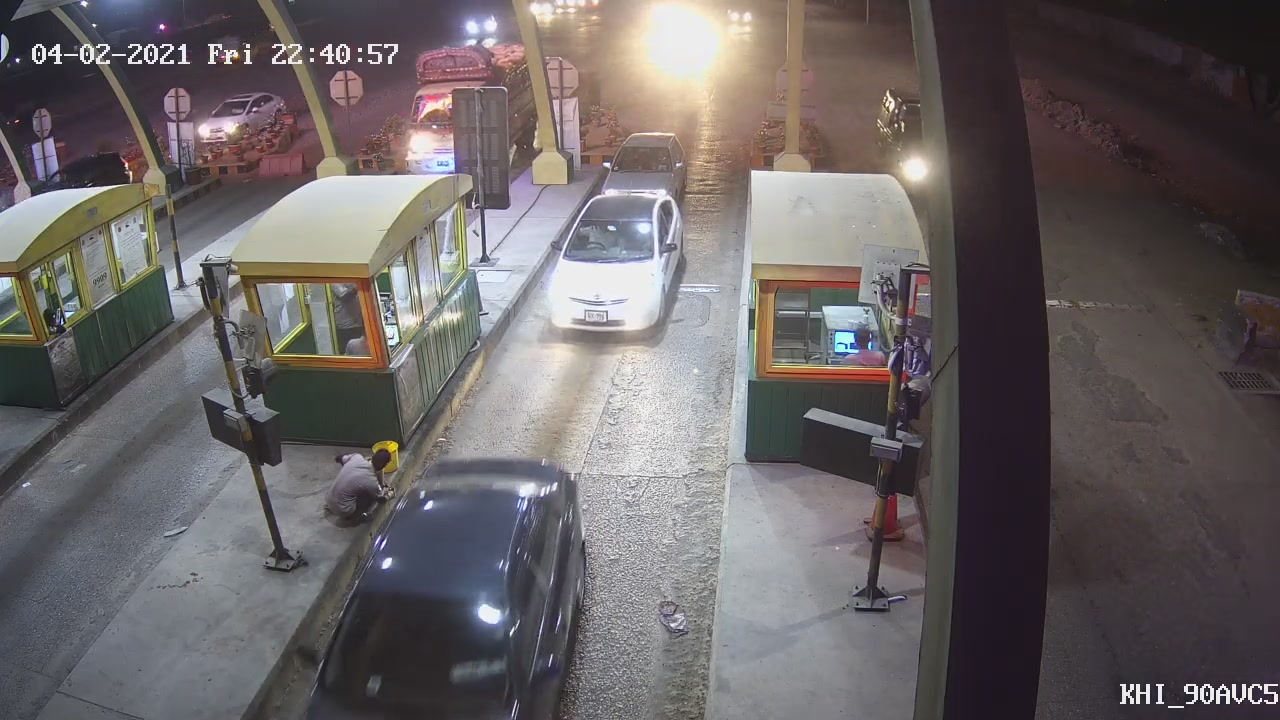F1: (548, 186, 686, 342)
